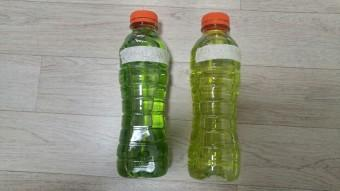bottle: (133, 9, 155, 178), (204, 12, 226, 180)
